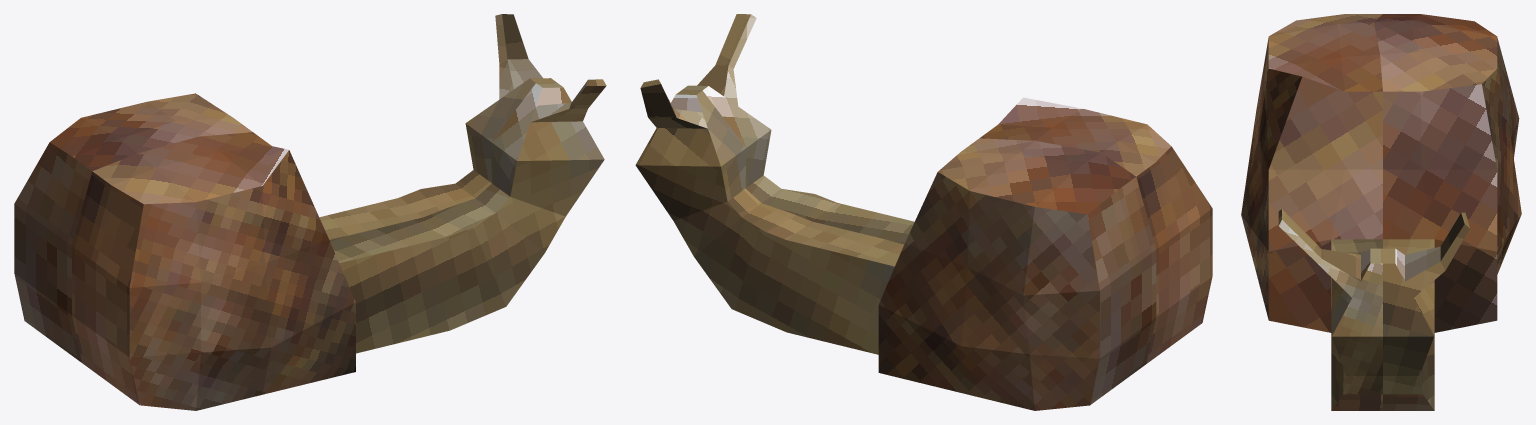
The model's file is snailShit.fbx.
The picture shows the model from 3 angles, left to right: view 1: azimuth 30°, elevation 25°; view 2: azimuth 150°, elevation 25°; view 3: azimuth 270°, elevation 25°; orthographic projection. The views are drawn at different scales.
Parts seen in each view (by area): view 1: Cube; view 2: Cube; view 3: Cube.
Boxes of the visible parts, x1,y1,x2,y2 form: Cube: [14, 14, 606, 410]; Cube: [635, 14, 1212, 410]; Cube: [1241, 14, 1521, 410].
Size of the model in its own units: 323 by 147 by 156.
